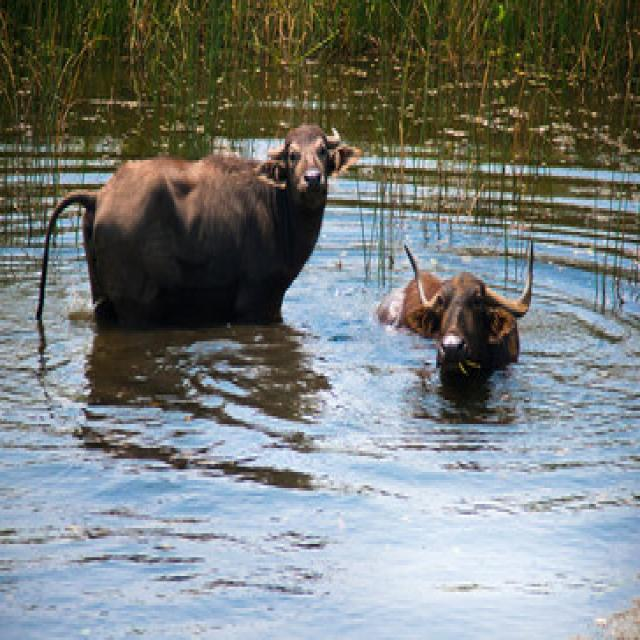Buffalo: (35, 114, 364, 331), (373, 244, 540, 391)
